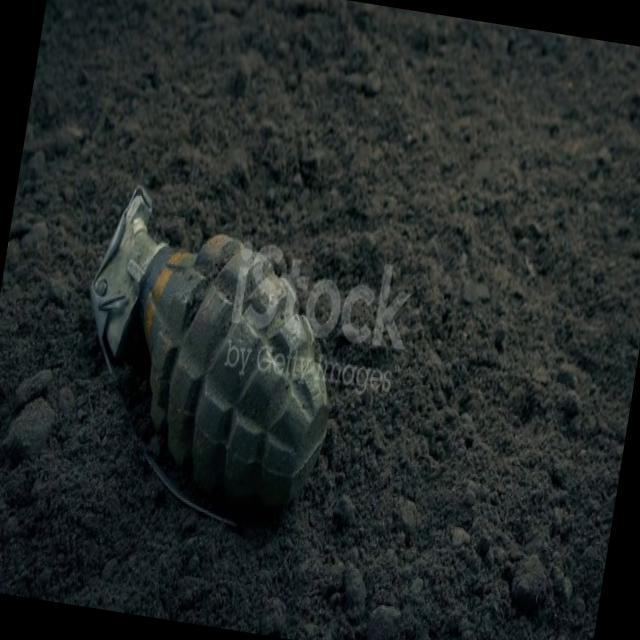grenade: (48, 176, 364, 563)
